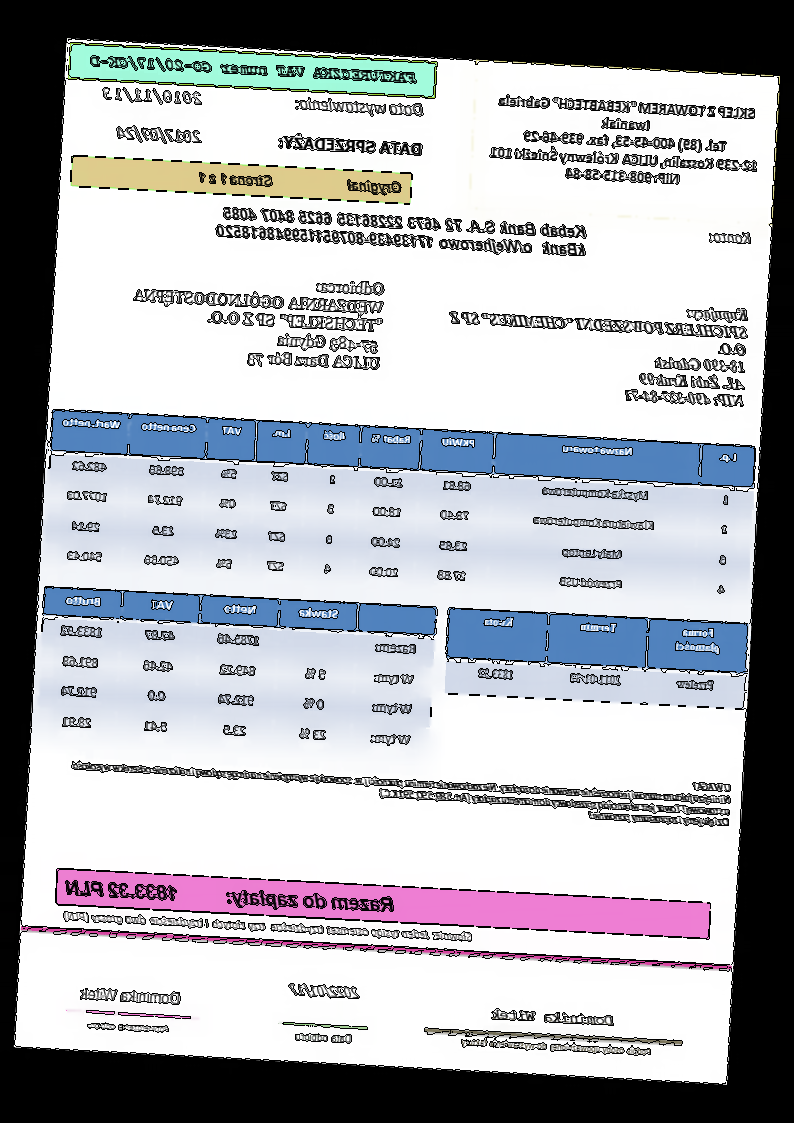Table: (42, 405, 759, 611), (35, 585, 440, 759), (445, 606, 750, 711)
TextBox: (70, 745, 735, 831), (442, 291, 751, 413), (126, 263, 388, 379), (485, 87, 763, 194), (213, 201, 591, 263), (59, 907, 475, 945), (61, 875, 399, 917), (83, 51, 421, 86), (196, 168, 406, 199), (459, 1035, 655, 1059), (276, 130, 426, 159), (293, 92, 426, 120), (487, 1006, 619, 1030), (76, 982, 184, 1008), (101, 82, 204, 107), (116, 122, 204, 148), (282, 977, 361, 1003), (86, 1017, 171, 1039), (704, 225, 756, 250), (293, 1029, 357, 1047)
